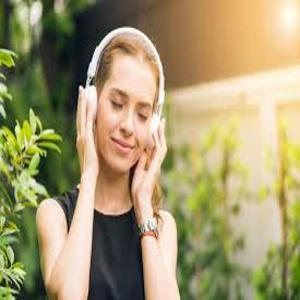Headphones: (81, 23, 167, 147)
